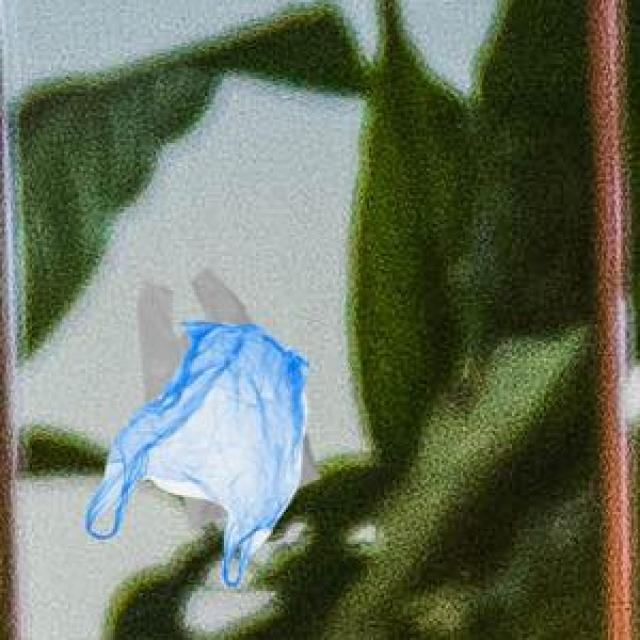waste: (92, 269, 311, 575)
